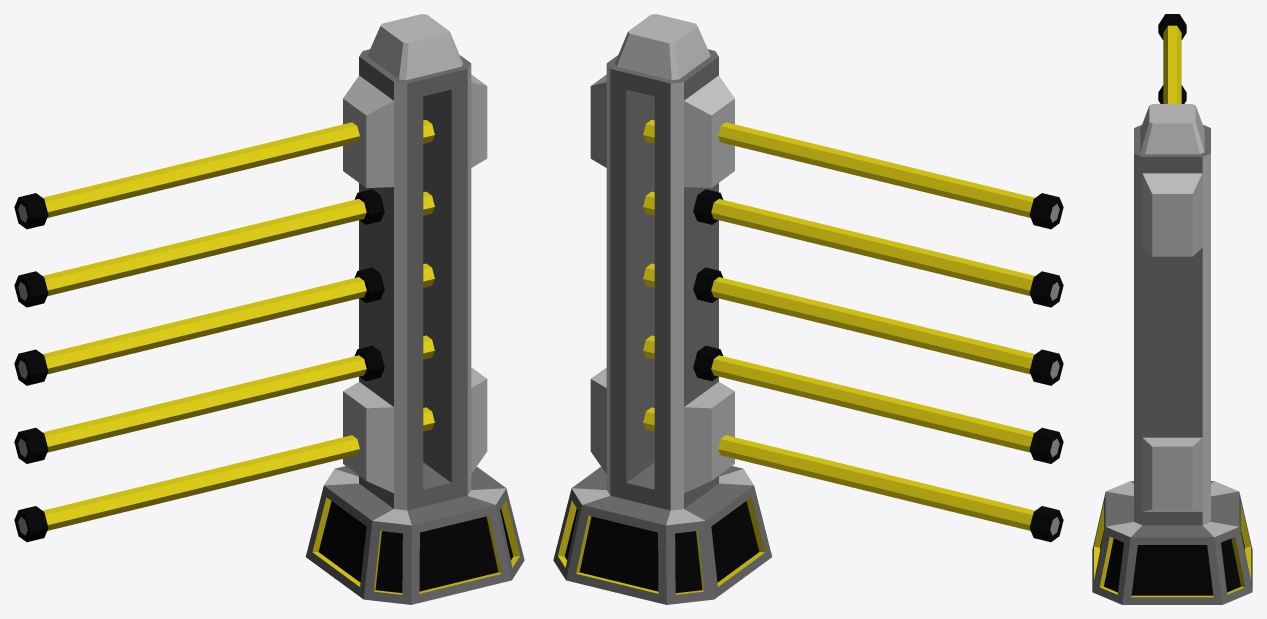
Rendered from Wall1 (2).fbx.
The picture shows the model from 3 angles, left to right: view 1: azimuth 30°, elevation 25°; view 2: azimuth 150°, elevation 25°; view 3: azimuth 270°, elevation 25°; orthographic projection. The views are drawn at different scales.
Parts seen in each view (by area): view 1: Plane.004; view 2: Plane.004; view 3: Plane.004.
Part boxes in pixels (left/top/right/bottom): Plane.004: left=14, top=14, right=524, bottom=604; Plane.004: left=553, top=14, right=1063, bottom=604; Plane.004: left=1092, top=14, right=1252, bottom=604.
Bounding box in the file's own units: 151 × 162 × 51.48.
